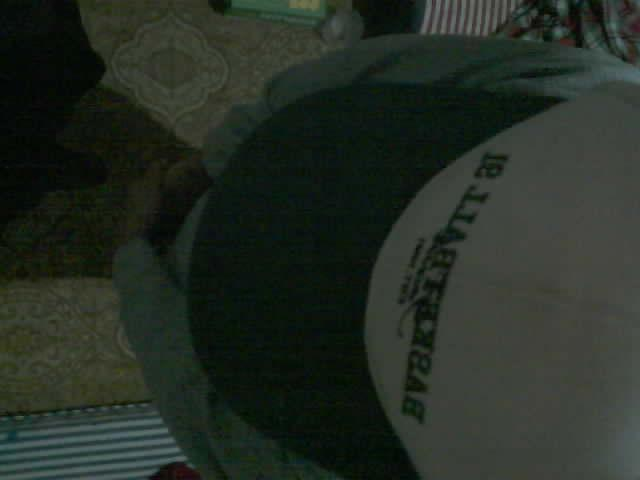cap: (184, 81, 639, 479)
